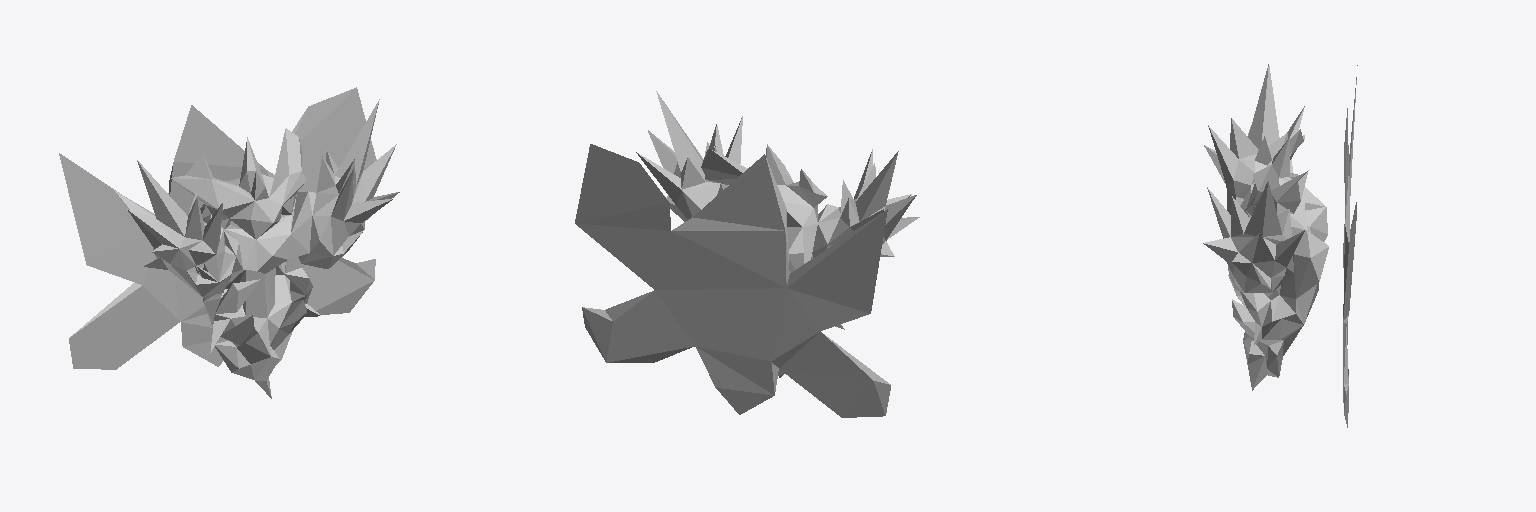
3 views of the same model, side by side, from view 1: azimuth 30°, elevation 25°; view 2: azimuth 150°, elevation 25°; view 3: azimuth 270°, elevation 25° (orthographic).
Visible parts, largest first — view 1: ai_model; view 2: ai_model; view 3: ai_model.
Part boxes in pixels (x1,y1,x2,y2): ai_model: (59,87,399,398); ai_model: (575,91,919,417); ai_model: (1203,64,1357,427).
Size of the model in its own units: 0.7838 by 0.6337 by 0.3318.